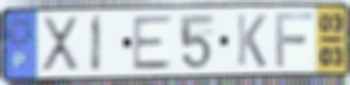5: (177, 13, 216, 71)
E: (131, 13, 175, 72)
F: (273, 10, 315, 69)
I: (89, 13, 104, 75)
K: (235, 12, 268, 69)
X: (39, 14, 81, 75)
